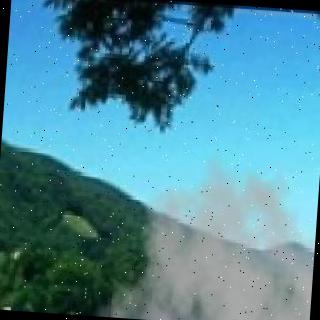smoke: (102, 159, 319, 320)
